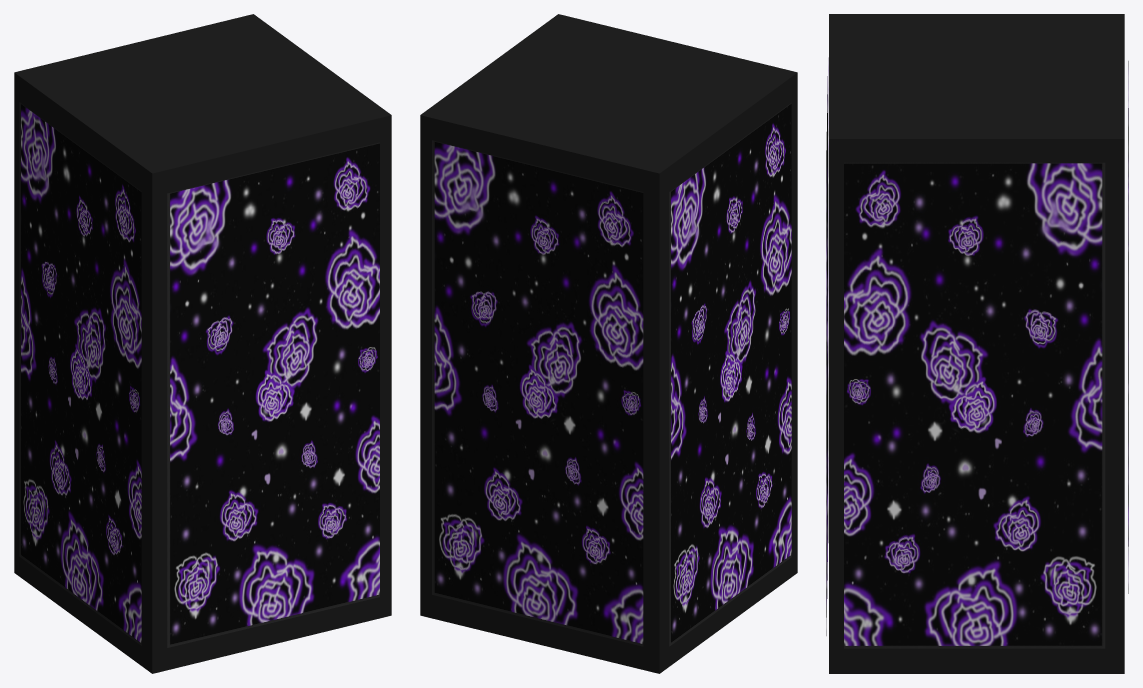
Rendered from VanityBox.glb.
3 views of the same model, side by side, from view 1: azimuth 30°, elevation 25°; view 2: azimuth 150°, elevation 25°; view 3: azimuth 270°, elevation 25° (orthographic). The views are drawn at different scales.
Visible parts, largest first — view 1: Screen Shot 2021-03-04 at 6.34.17 PM.004, Cube, Screen Shot 2021-03-04 at 6.34.17 PM.003; view 2: Screen Shot 2021-03-04 at 6.34.17 PM.002, Cube, Screen Shot 2021-03-04 at 6.34.17 PM.003; view 3: Screen Shot 2021-03-04 at 6.34.17 PM.001, Cube, Screen Shot 2021-03-04 at 6.34.17 PM.004, Screen Shot 2021-03-04 at 6.34.17 PM.002.
Boxes of the visible parts, x1,y1,x2,y2 form: Screen Shot 2021-03-04 at 6.34.17 PM.004: (167,142,379,647); Cube: (14,14,391,673); Screen Shot 2021-03-04 at 6.34.17 PM.003: (19,102,141,645); Screen Shot 2021-03-04 at 6.34.17 PM.002: (432,140,643,646); Cube: (420,14,797,673); Screen Shot 2021-03-04 at 6.34.17 PM.003: (669,103,791,646); Screen Shot 2021-03-04 at 6.34.17 PM.001: (844,162,1105,648); Cube: (829,14,1124,673); Screen Shot 2021-03-04 at 6.34.17 PM.004: (826,57,828,635); Screen Shot 2021-03-04 at 6.34.17 PM.002: (1128,61,1128,593).
Size of the model in its own units: 2.03 by 4 by 2.05.
Materials: 3 (2 with a texture image).
